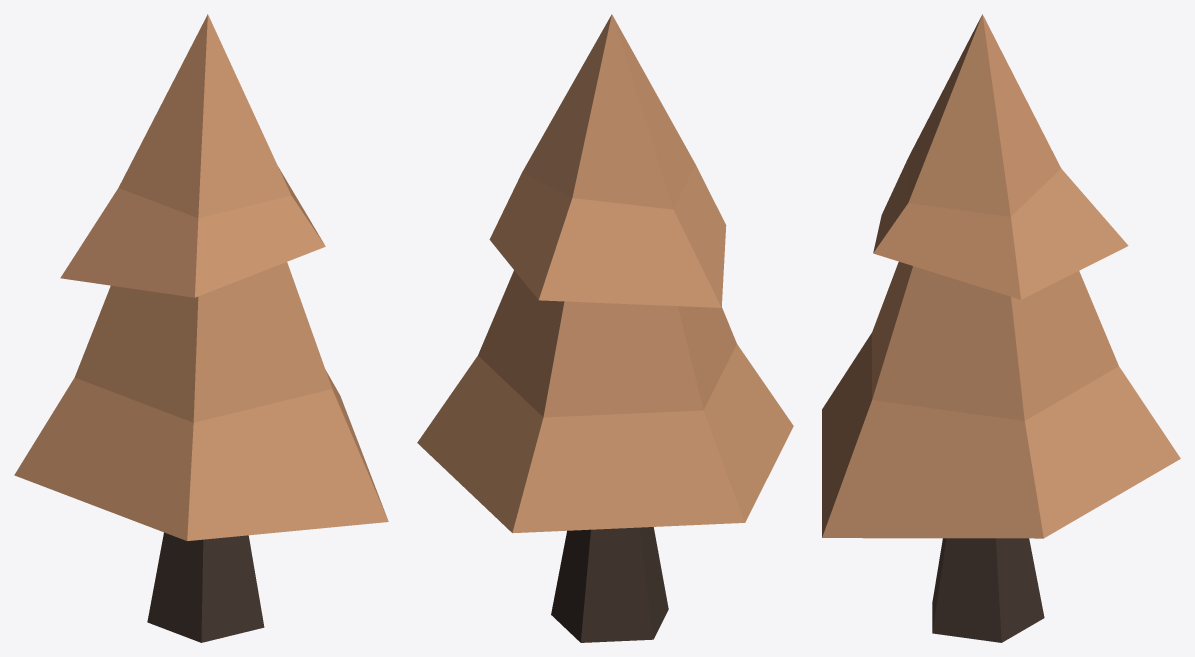
The model's file is orange_conetree3.fbx.
The picture shows the model from 3 angles, left to right: view 1: azimuth 30°, elevation 25°; view 2: azimuth 150°, elevation 25°; view 3: azimuth 270°, elevation 25°; orthographic projection.
Visible parts, largest first — view 1: orange_conetree3; view 2: orange_conetree3; view 3: orange_conetree3.
Part boxes in pixels (<box>): orange_conetree3: <box>14,14,388,642</box>; orange_conetree3: <box>417,14,793,642</box>; orange_conetree3: <box>822,14,1180,642</box>.
Size of the model in its own units: 412 by 727 by 392.
